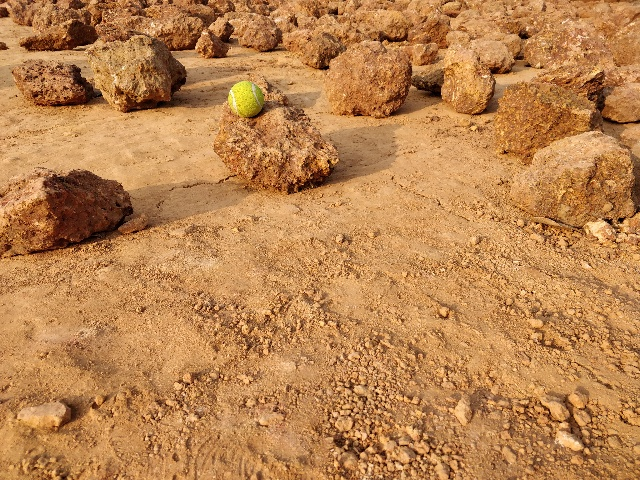ball: (221, 79, 270, 120)
